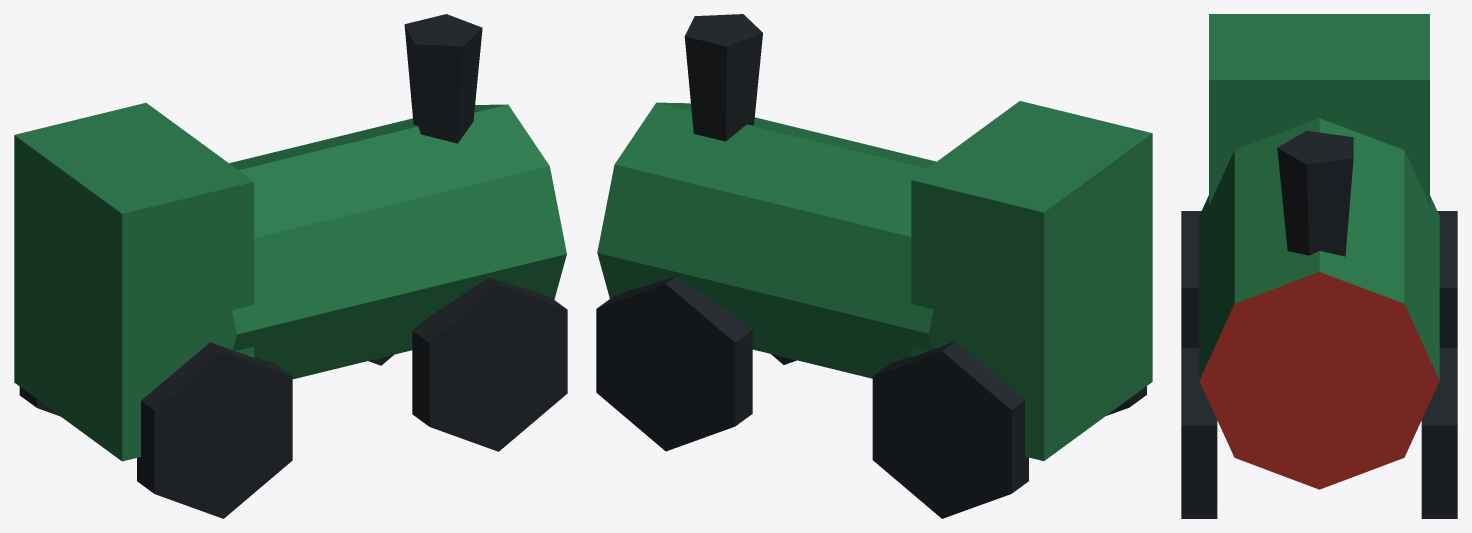
Rendered from train-engine-180979.glb.
The picture shows the model from 3 angles, left to right: view 1: azimuth 30°, elevation 25°; view 2: azimuth 150°, elevation 25°; view 3: azimuth 270°, elevation 25°; orthographic projection. The views are drawn at different scales.
Size of the model in its own units: 4 by 3.2 by 2.12.
